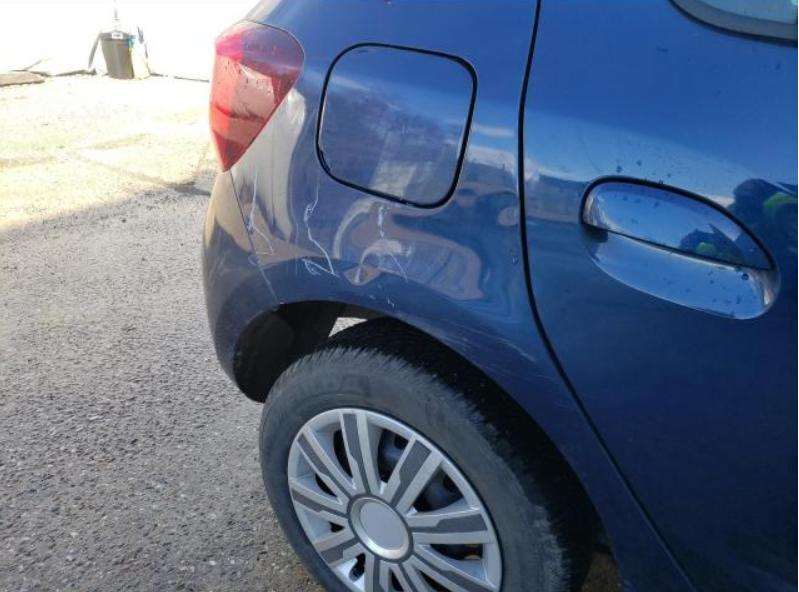Back-bumper: (202, 169, 346, 404)
Back-door: (524, 0, 799, 591)
Back-wheel: (260, 316, 601, 591)
Back-window: (703, 0, 798, 24)
Quarter-panel: (229, 1, 690, 591)
Tail-light: (210, 19, 304, 170)
